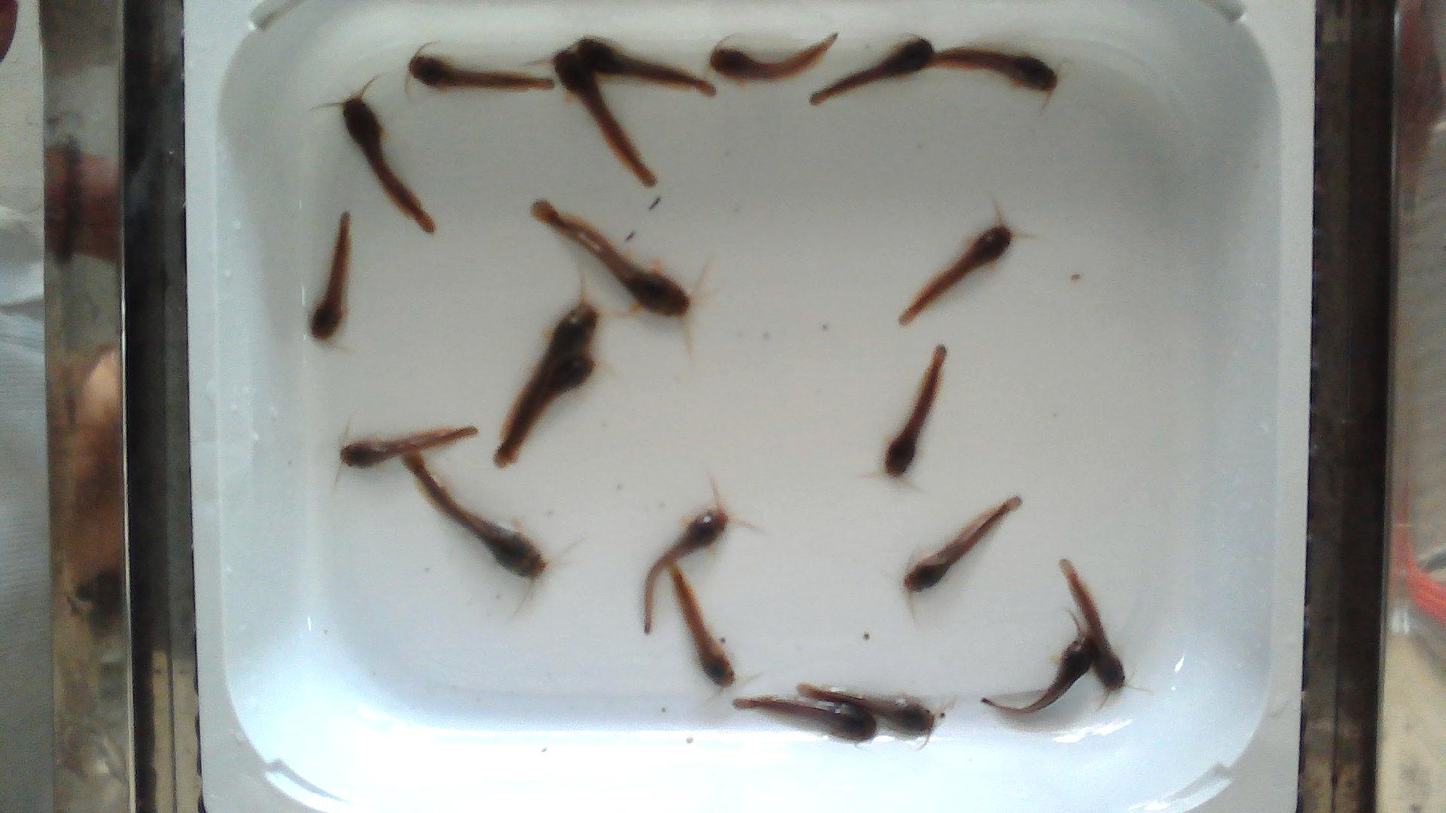lele: (532, 201, 690, 317), (403, 452, 545, 578), (504, 303, 599, 458), (553, 47, 657, 187), (343, 95, 435, 232), (898, 219, 1012, 324), (904, 495, 1020, 592), (642, 510, 729, 630), (497, 354, 591, 461), (980, 633, 1097, 715), (1060, 560, 1126, 695), (574, 40, 719, 98), (884, 346, 946, 476), (811, 38, 933, 103), (669, 567, 734, 686), (799, 682, 936, 734), (709, 34, 837, 83), (924, 48, 1056, 93), (735, 698, 878, 738), (340, 426, 477, 466), (409, 53, 554, 90), (310, 212, 351, 340)
